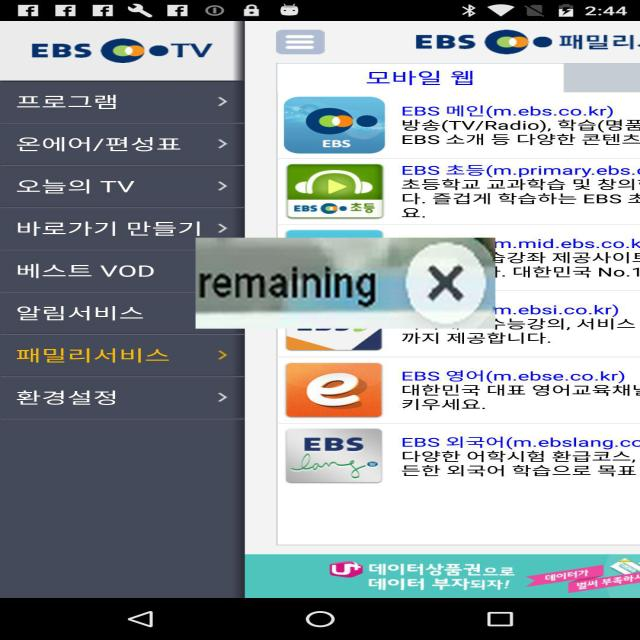misdirection: (195, 238, 496, 328)
